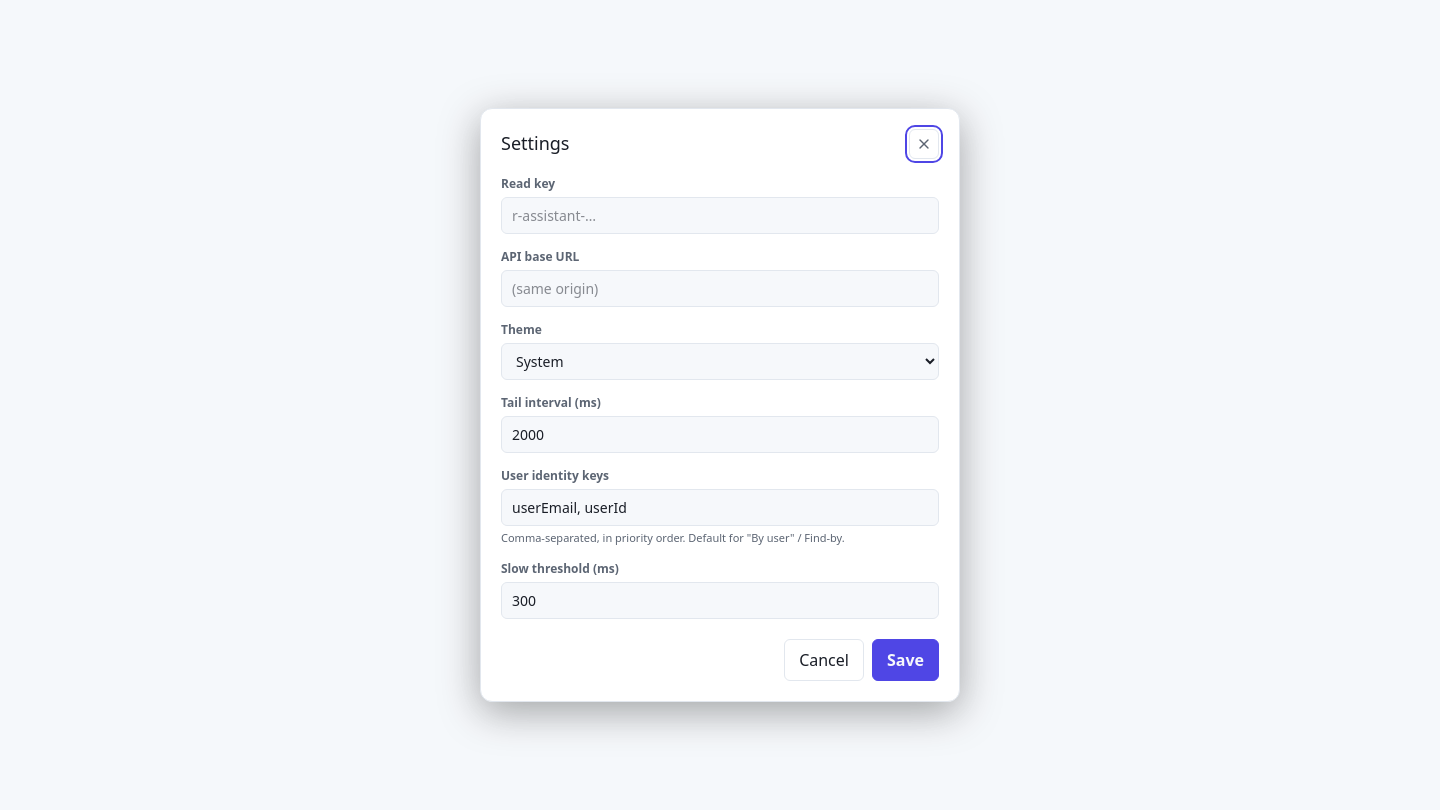
SettingsDialog › refuses to save a cross-origin API base URL (does not persist, stays open)
Type "r-secret" into the password field labelled "Read key" at (720, 215), box top-left (501, 197), bottom-right (939, 234)
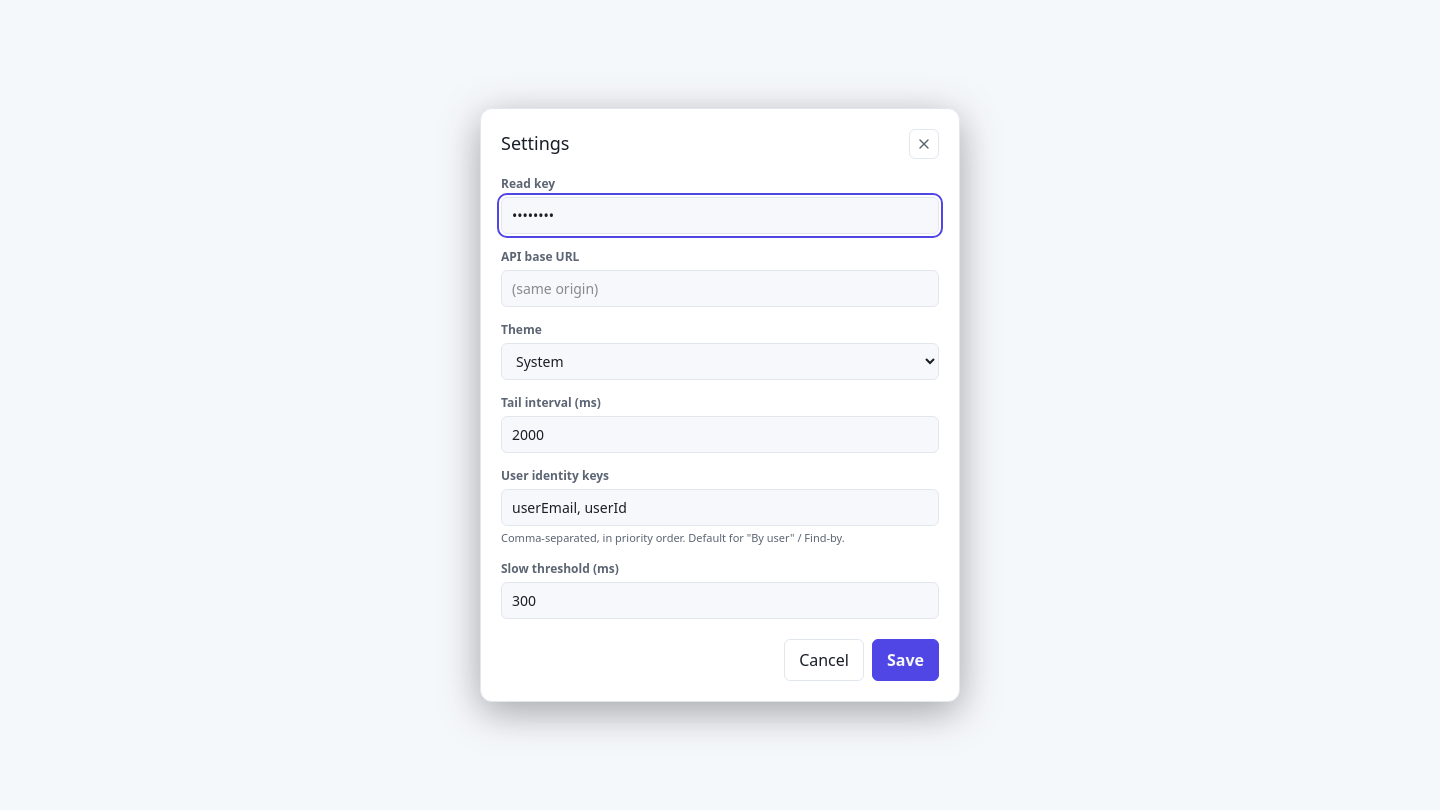
Type "https://attacker.evil.example" into the field labelled "API base URL" at (720, 288), box top-left (501, 270), bottom-right (939, 307)
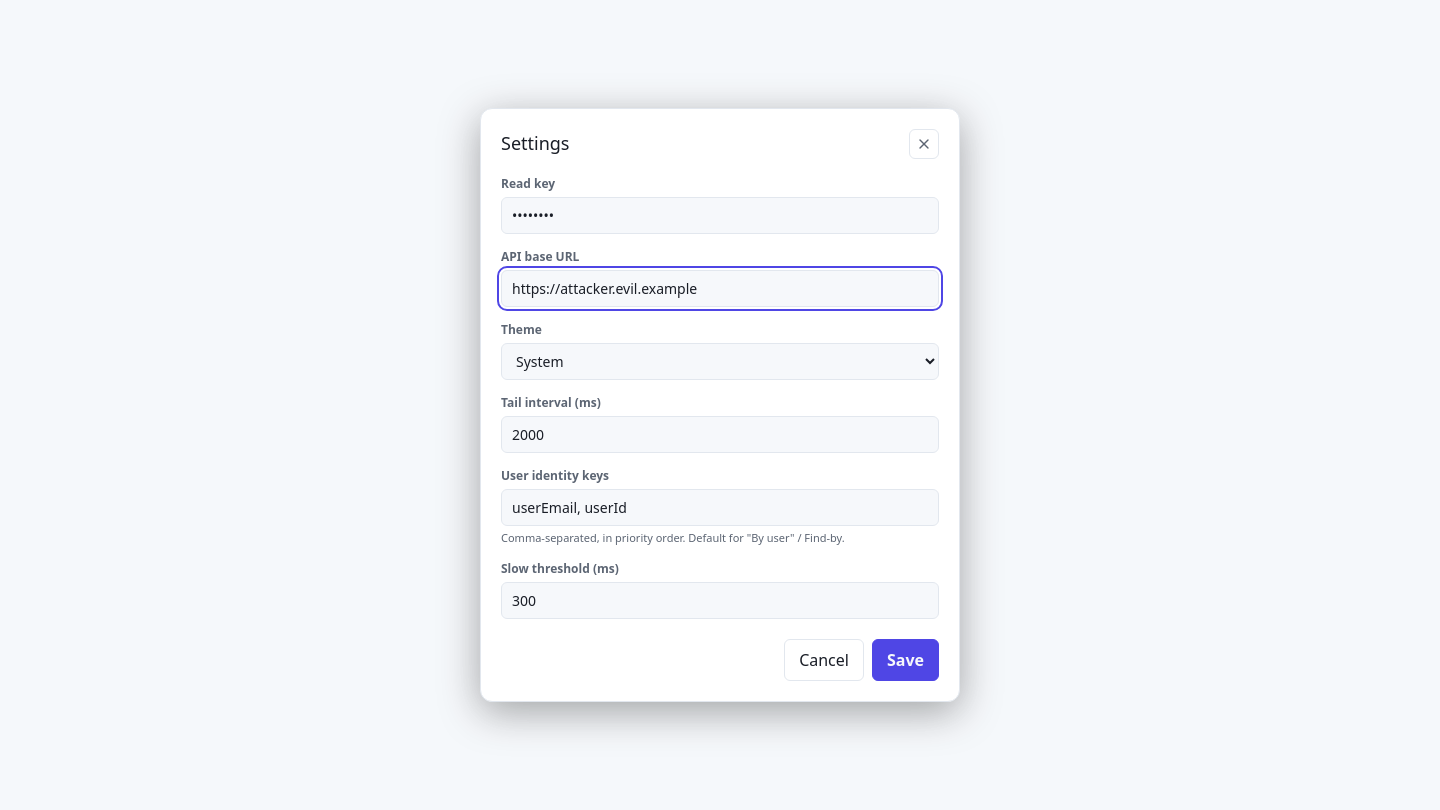
Click the button "Save" at (906, 660), box top-left (872, 639), bottom-right (939, 681)
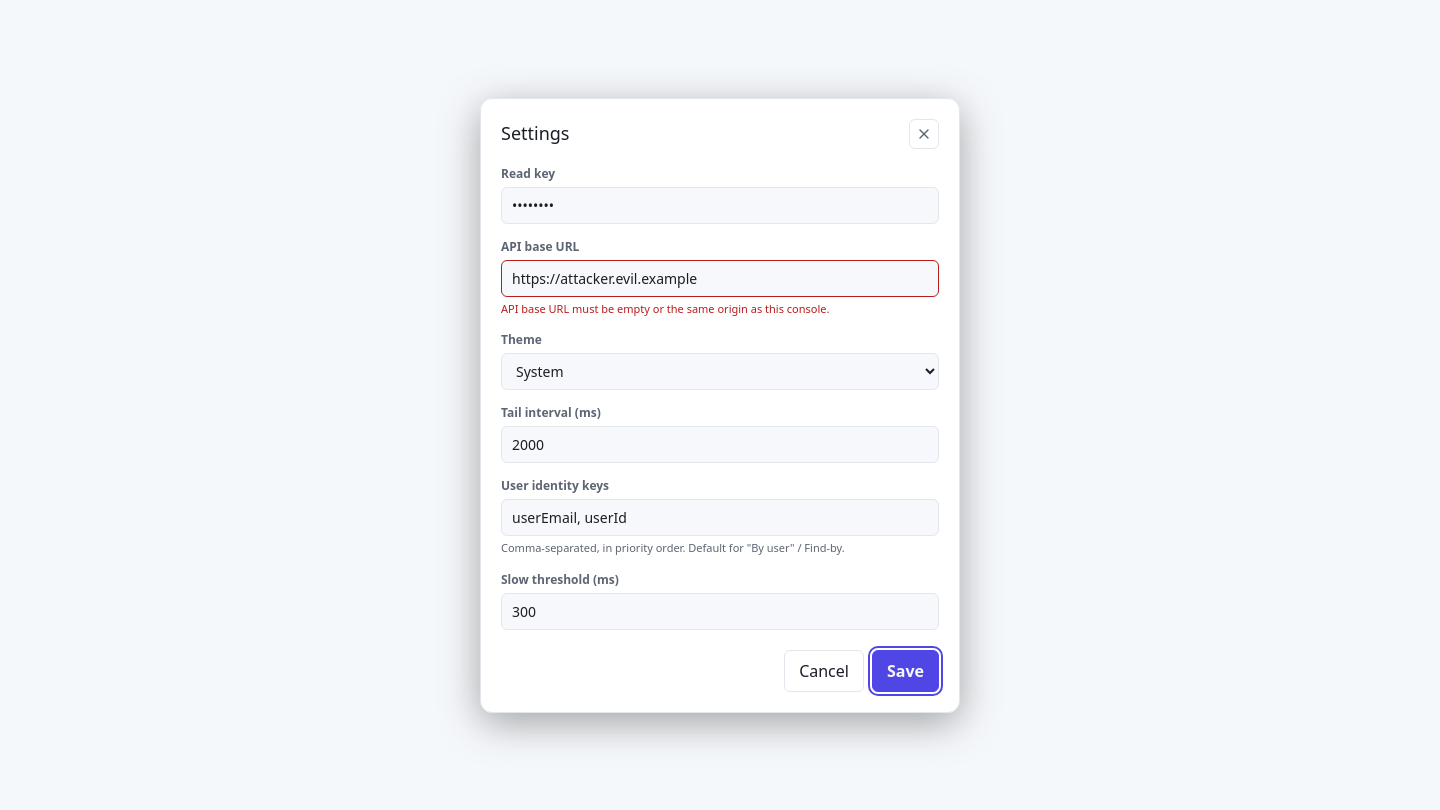
Result: the message shows "same origin" at top-left (501, 300), bottom-right (829, 316)
